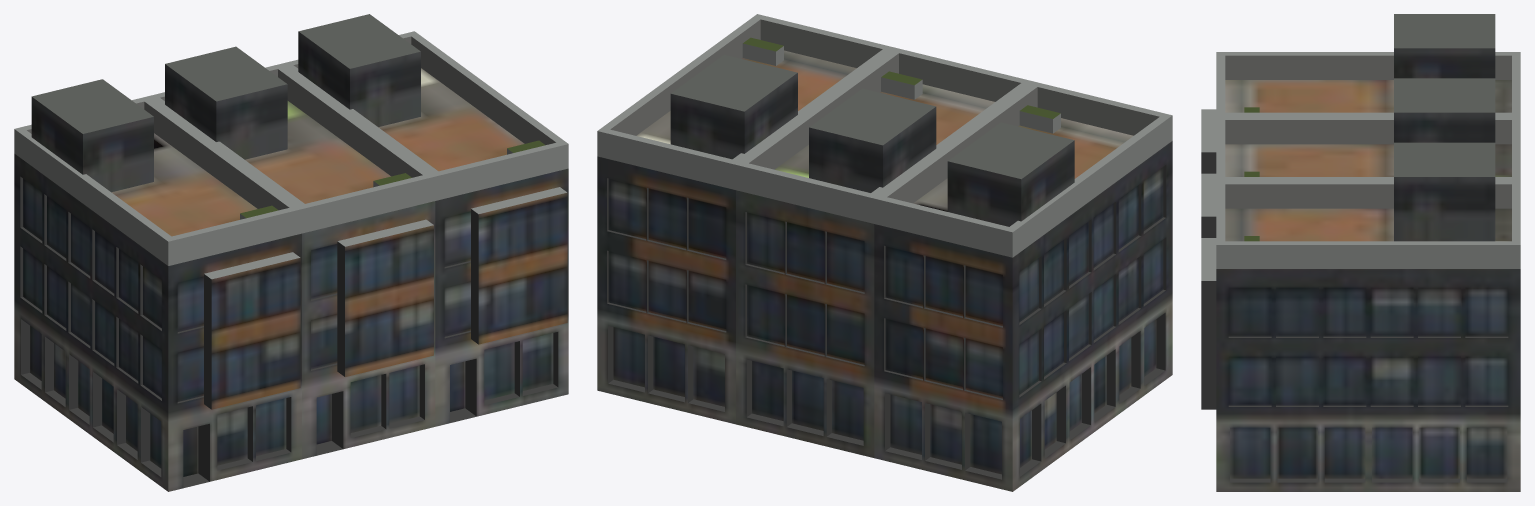
File: seattle_house_d.glb
The picture shows the model from 3 angles, left to right: view 1: azimuth 30°, elevation 25°; view 2: azimuth 150°, elevation 25°; view 3: azimuth 270°, elevation 25°; orthographic projection. The views are drawn at different scales.
Parts seen in each view (by area): view 1: seattle_house_d; view 2: seattle_house_d; view 3: seattle_house_d.
Boxes of the visible parts, x1,y1,x2,y2 form: seattle_house_d: [14, 14, 568, 491]; seattle_house_d: [597, 14, 1172, 491]; seattle_house_d: [1201, 14, 1520, 491].
Bounding box in the file's own units: 18 × 12.5 × 12.6.
Materials: 1 (1 with a texture image).
